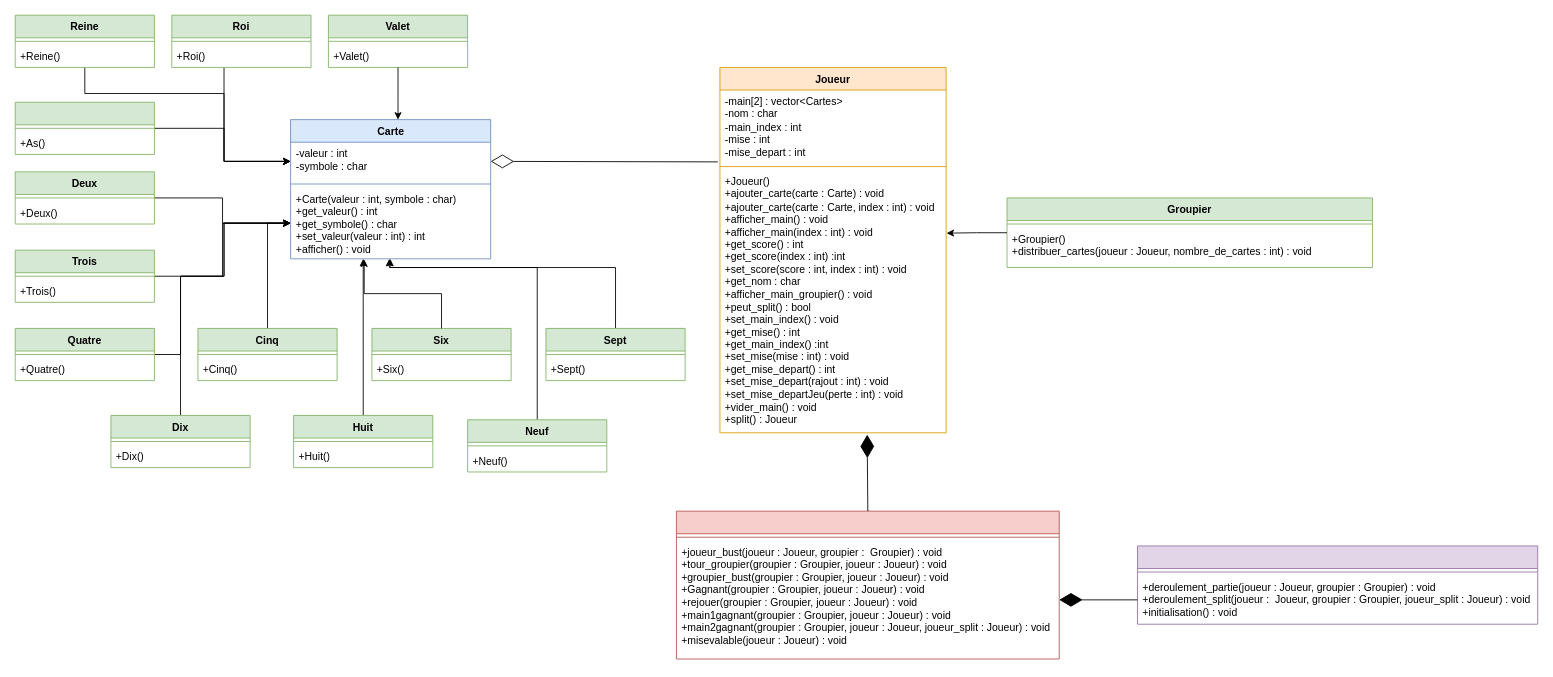
The diagram is 1553 pixels wide and 677 high, and some of its shapes have lost their labels. Here are the shapes that lost their labels. From the top down, the box of each, then its label:
(14, 101, 154, 154): As
(676, 510, 1059, 659): Regle
(1137, 545, 1538, 624): Jeu
